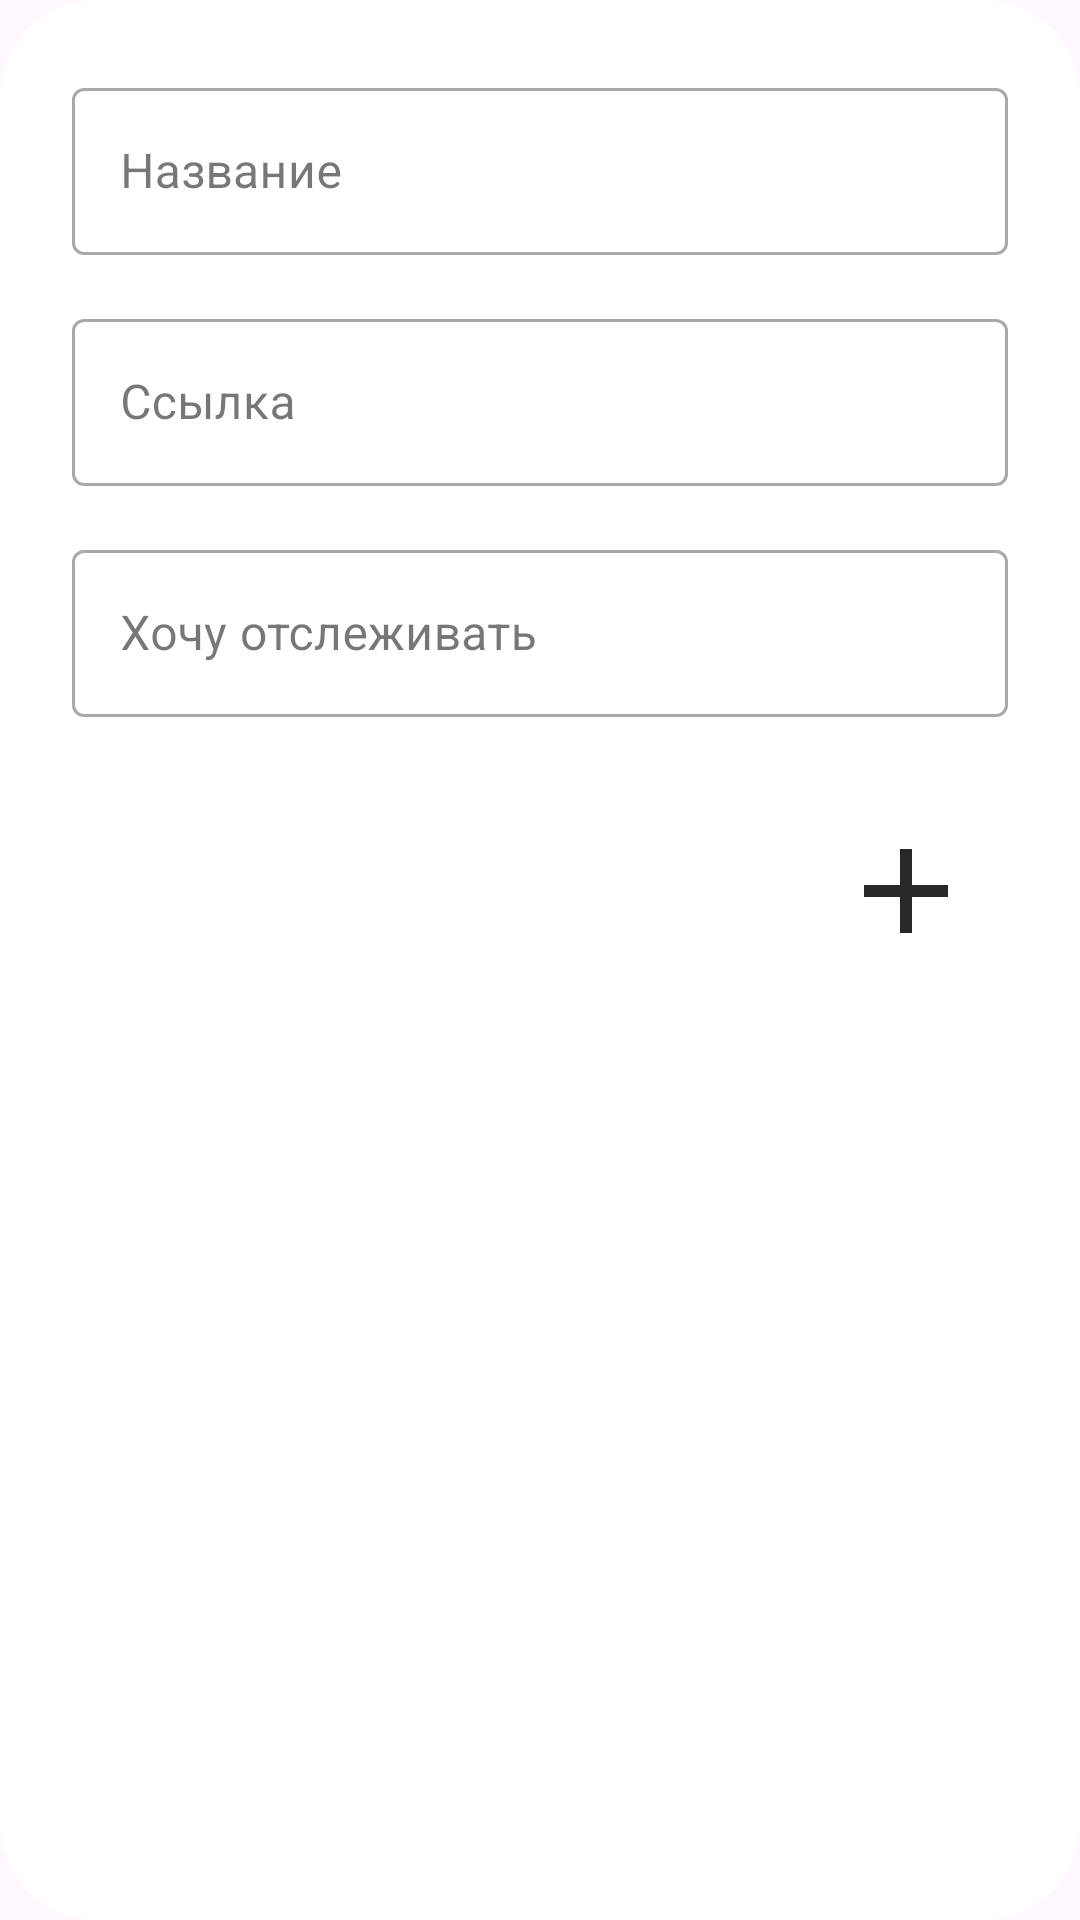

Icons on this 1080×1920 Android screen, each with its box as (x1, y1, x2, y2):
Добавить: (864, 849, 948, 933)
